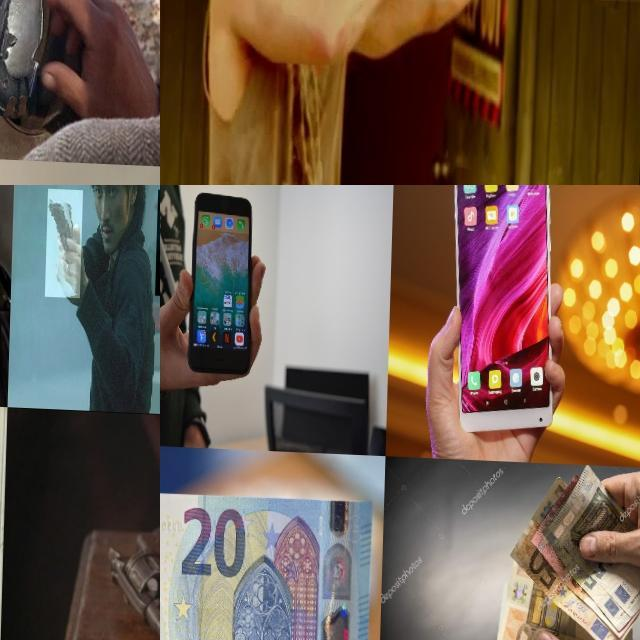gun-knife-thesis - v11 Yolov5 augmented: (388, 0, 640, 98), (103, 498, 160, 640), (0, 0, 41, 117), (0, 185, 47, 283), (46, 186, 84, 294), (0, 586, 27, 640)
